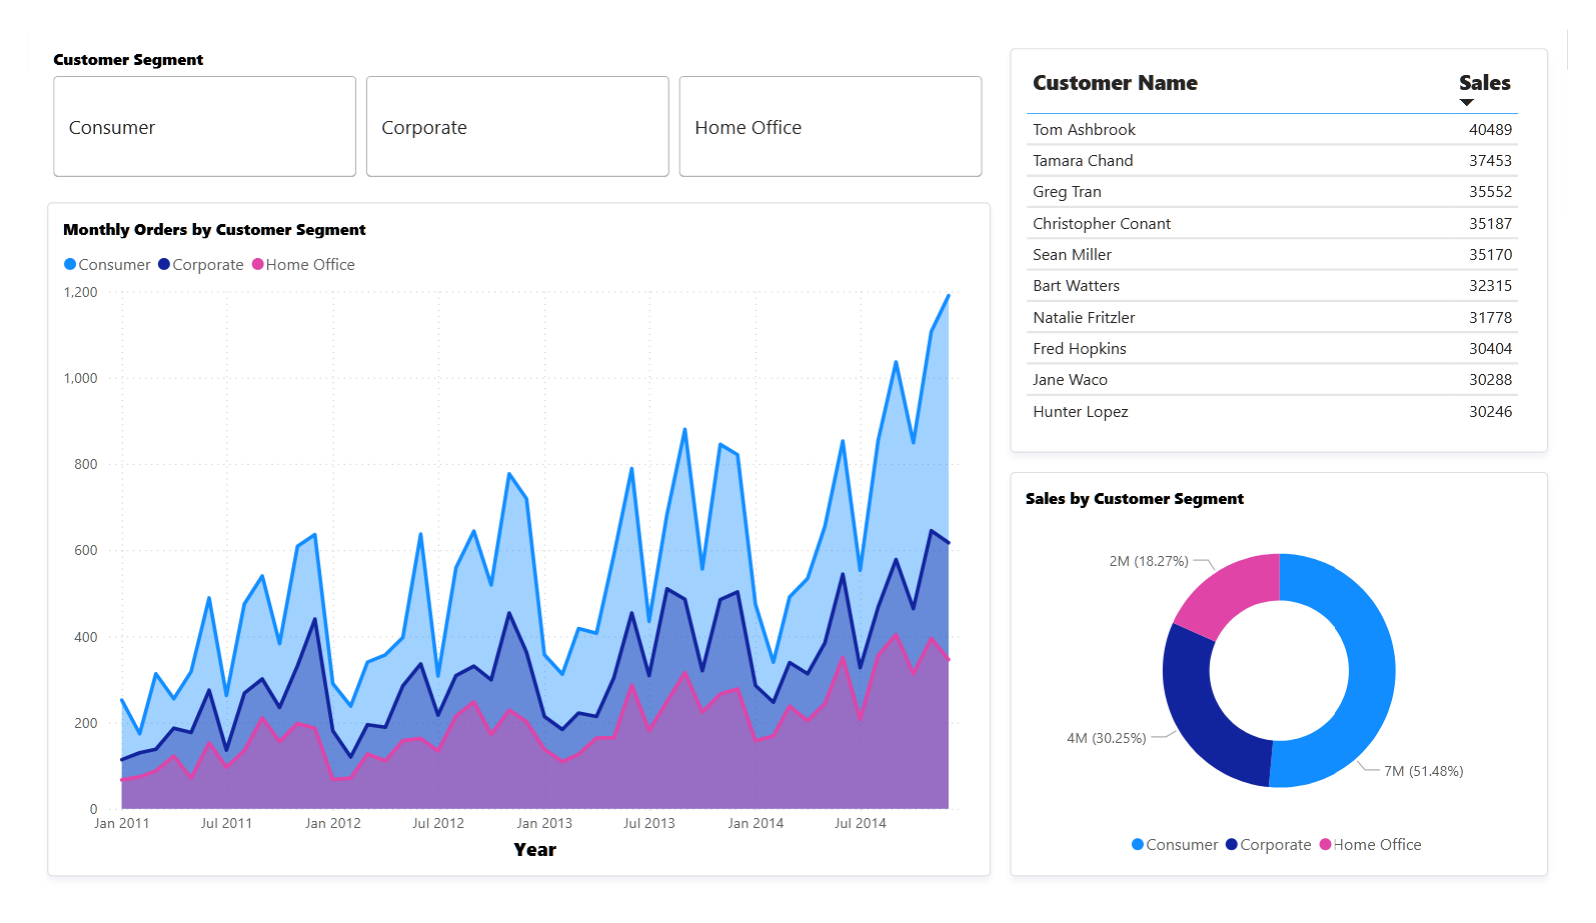

The dashboard page shown, as its layout file describes it:
{"tool":"powerbi","page":{"name":"Customer & Segment Insight","canvas":[1280,720],"ordinal":3},"visuals":[{"type":"tableEx","fields":{"Values":["superstore.Customer.Name","Sum(superstore.Sales)"]},"box":[816,16,448,336],"z":0},{"type":"donutChart","fields":{"Category":["superstore.Segment"],"Y":["Sum(superstore.Sales)"]},"box":[816,368,448,336],"z":1000},{"type":"areaChart","title":"Monthly Orders by Customer Segment","fields":{"Category":["superstore.Order.Date.Variation.Date Hierarchy.Year","superstore.Order.Date.Variation.Date Hierarchy.Month"],"Y":["CountNonNull(superstore.Order.ID)"],"Series":["superstore.Segment"]},"box":[16,144,784,560],"z":2000},{"type":"advancedSlicerVisual","title":"Customer Segment","fields":{"Values":["superstore.Segment"]},"box":[16,16,784,112],"z":3000}]}

Visuals, with their boxes in screenshot pixels (x1, y1, x2, y2), scaled from the page's 1280x720 canvas onto the 1596x923 screenshot:
tableEx - superstore.Customer.Name x Sum(superstore.Sales): left=1017, top=21, right=1576, bottom=451
donutChart - superstore.Segment x Sum(superstore.Sales): left=1017, top=472, right=1576, bottom=902
"Monthly Orders by Customer Segment" areaChart: left=20, top=185, right=998, bottom=902
"Customer Segment" advancedSlicerVisual: left=20, top=21, right=998, bottom=164
